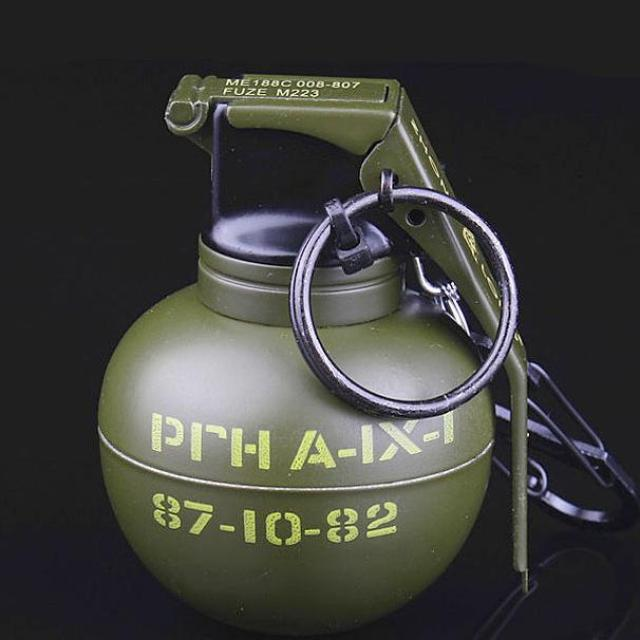grenade: (99, 77, 536, 640)
